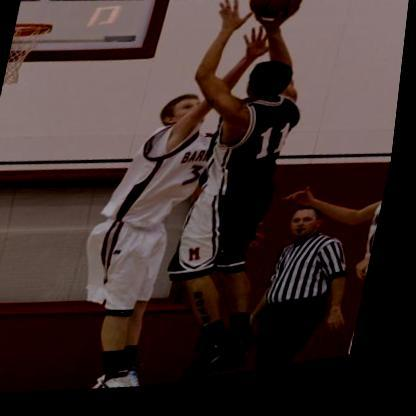basketball: (245, 0, 308, 35)
